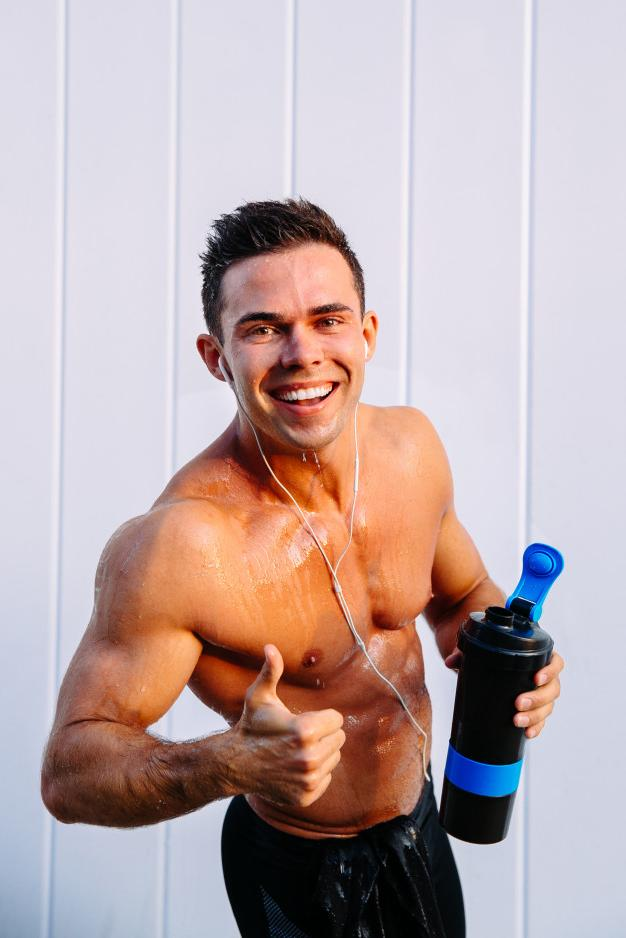thumbsup: (256, 642, 347, 809)
